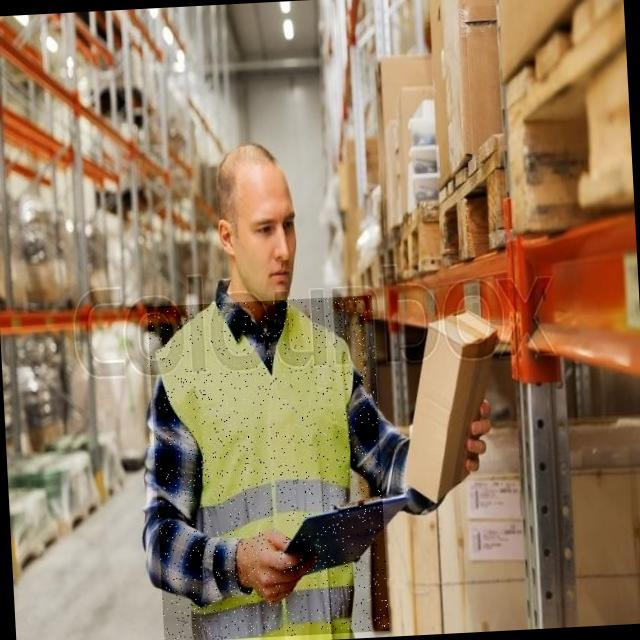Person: (113, 108, 515, 640)
Safety Vest: (147, 295, 389, 640)
bare-arms: (228, 504, 305, 612)
no-helmet: (206, 140, 308, 226)
